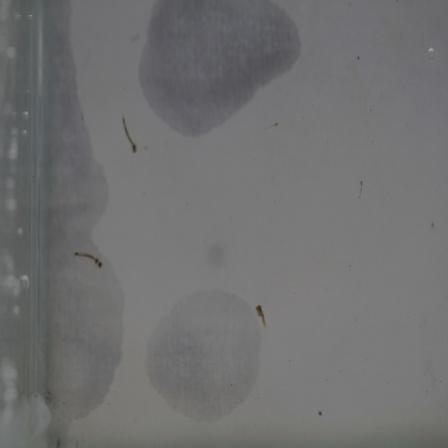Jentik-Nyamuk: (118, 113, 143, 159), (72, 248, 106, 273), (253, 298, 271, 337)
